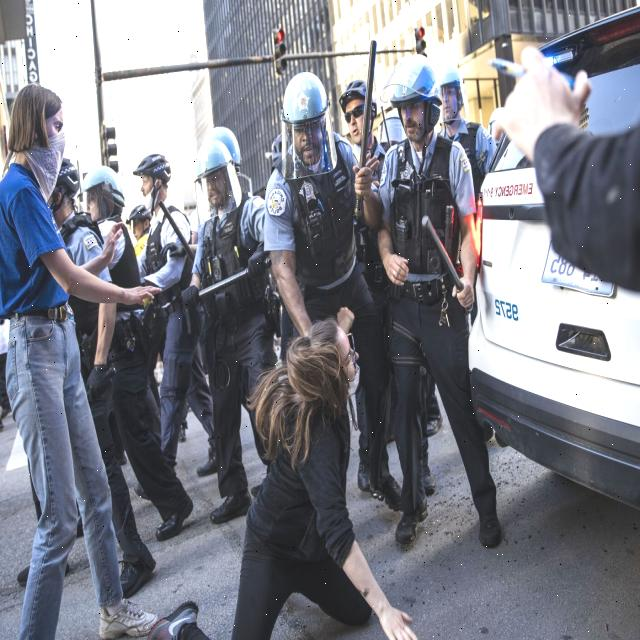police: (374, 60, 494, 614), (181, 127, 277, 513), (127, 141, 218, 513), (264, 66, 378, 358)
